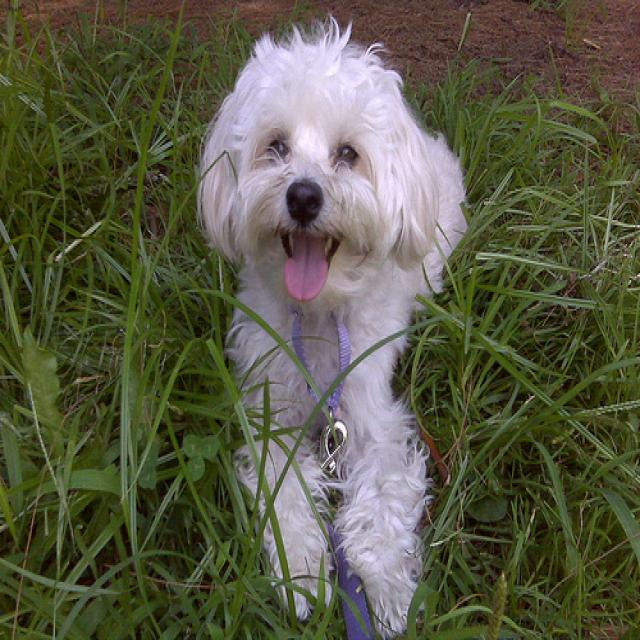dog-havanese: (188, 10, 477, 637)
